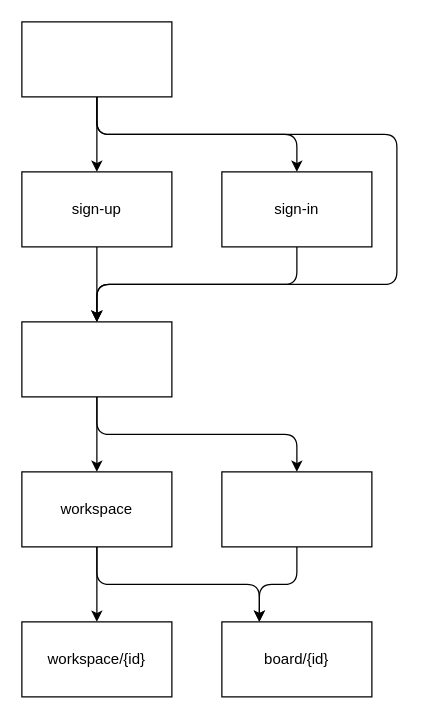
Image size: 429x719. Some labels were removed from this diagram. Here are the shapes that lost their labels. From the top down, the box of each, then its label:
(21, 21, 172, 97): home not log
(21, 321, 172, 397): home logged
(221, 471, 372, 547): template
